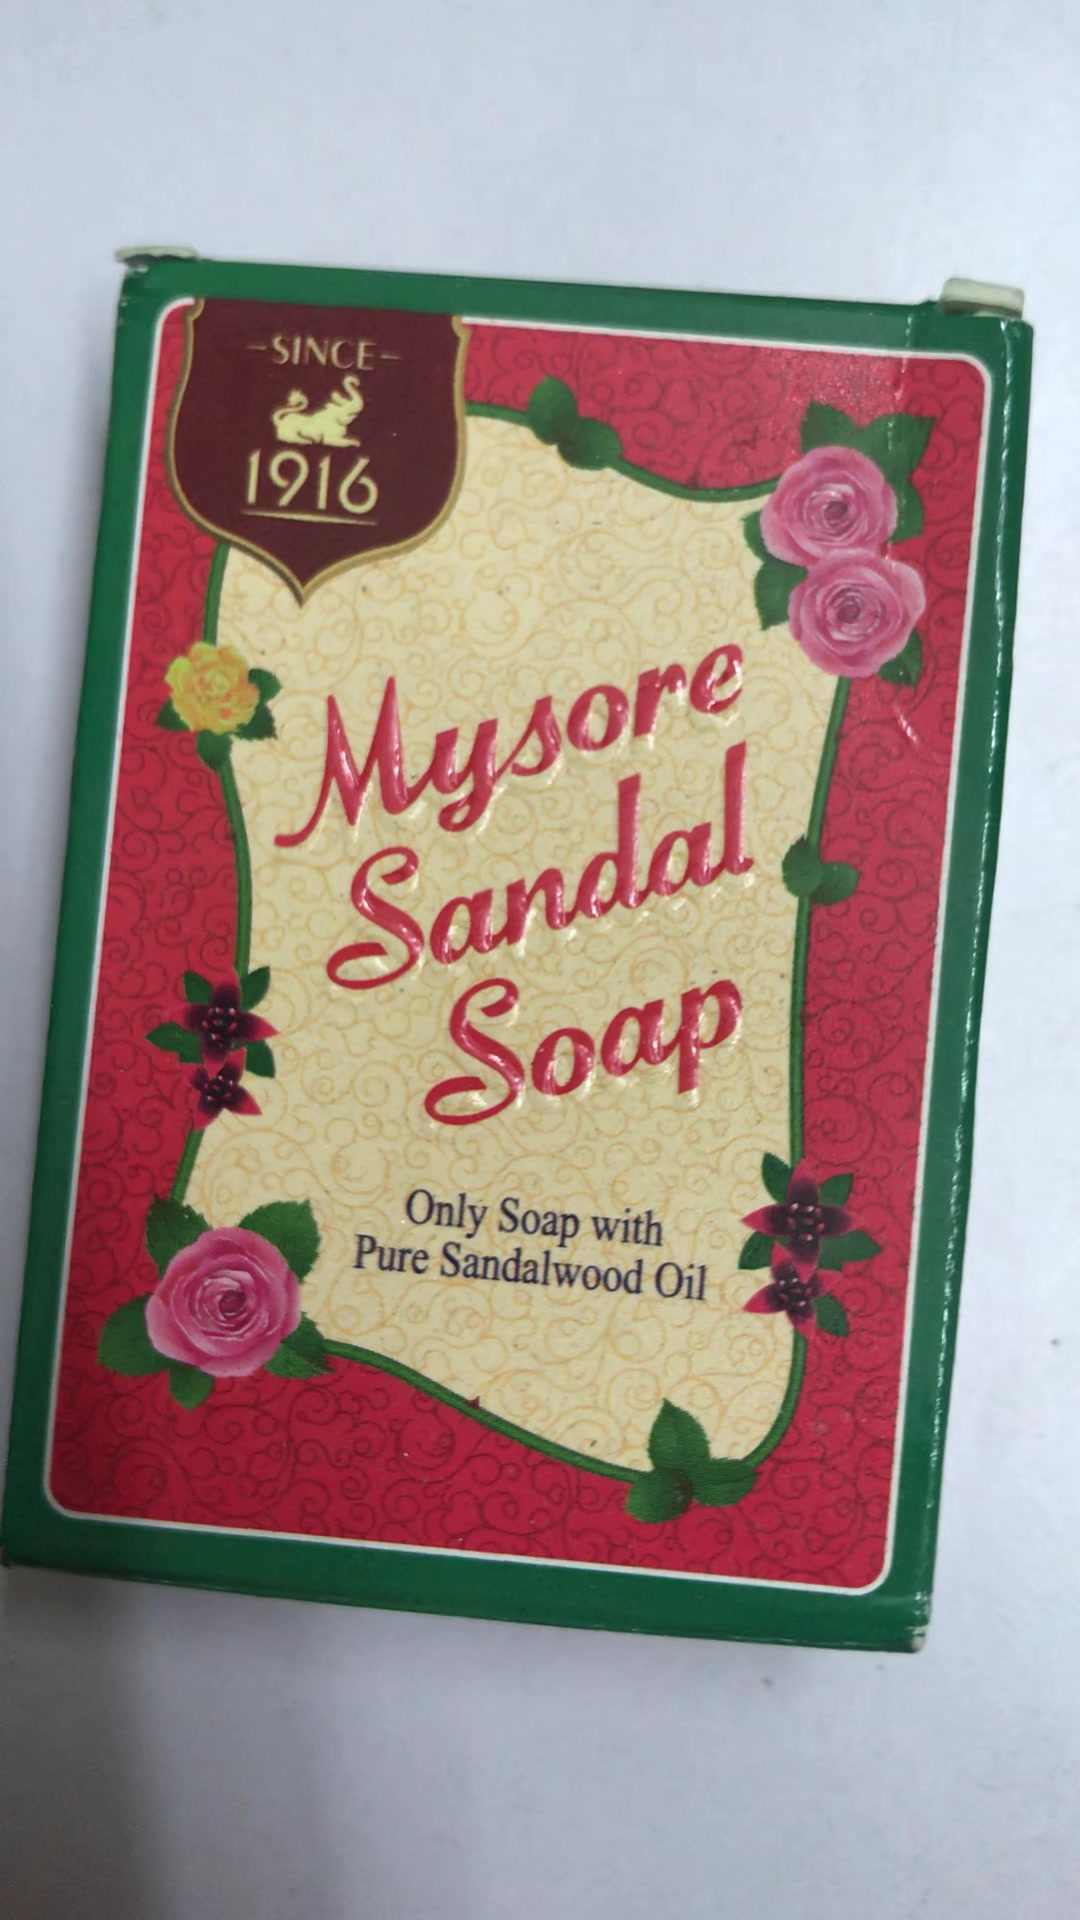mysore sandal soap: (15, 251, 1040, 1648)
